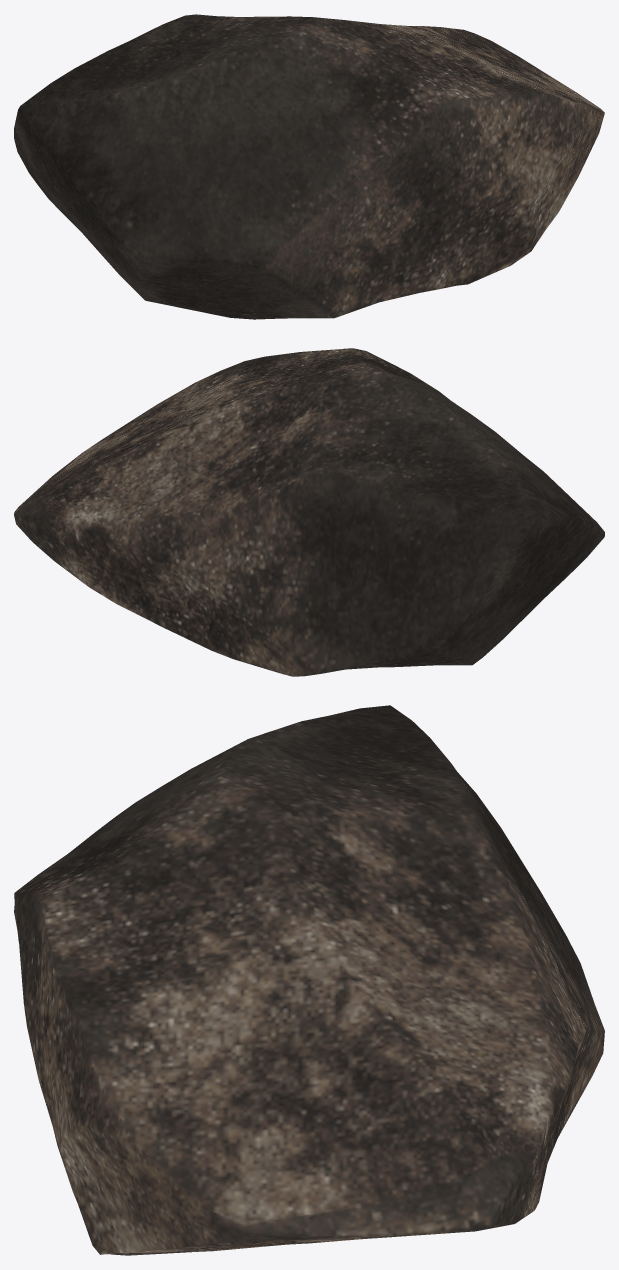
Rendered from SM_RP_Rock_4m_7.glb.
3 renders of one model, top to bottom at view 1: azimuth 30°, elevation 25°; view 2: azimuth 150°, elevation 25°; view 3: azimuth 270°, elevation 25°, orthographic. The views are drawn at different scales.
Visible parts, largest first — view 1: SM_RP_Rock_4m_7; view 2: SM_RP_Rock_4m_7; view 3: SM_RP_Rock_4m_7.
Part boxes in pixels (left/top/right/bottom): SM_RP_Rock_4m_7: left=14, top=14, right=604, bottom=319; SM_RP_Rock_4m_7: left=14, top=348, right=604, bottom=676; SM_RP_Rock_4m_7: left=14, top=705, right=604, bottom=1255.
Bounding box in the file's own units: 7.24 × 3.48 × 4.72.
Materials: 1 (1 with a texture image).
